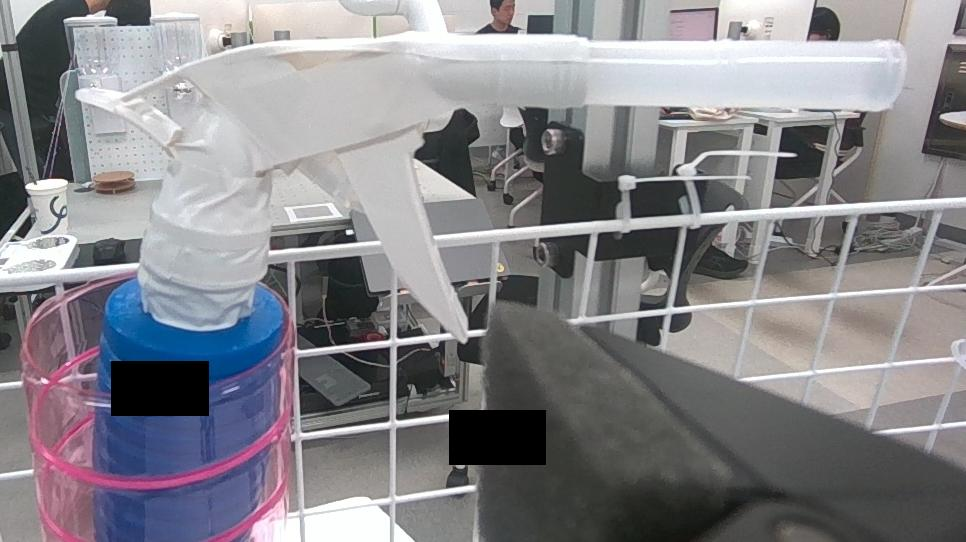Nozzle: (65, 25, 588, 542)
